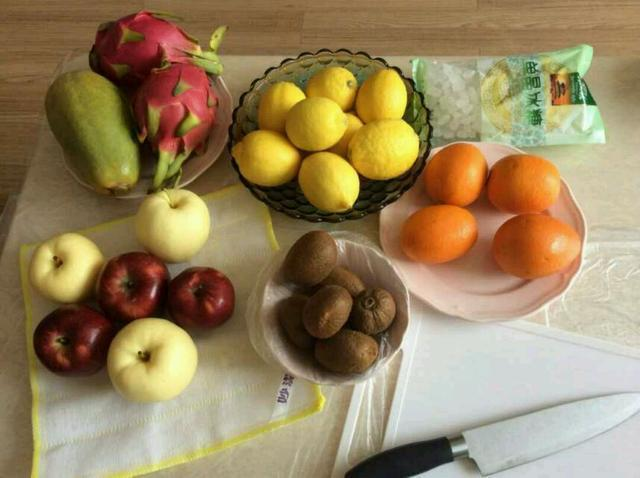apple: (107, 318, 196, 405), (31, 302, 113, 374), (133, 186, 209, 262), (28, 231, 106, 304), (96, 251, 167, 321), (166, 265, 235, 331)
